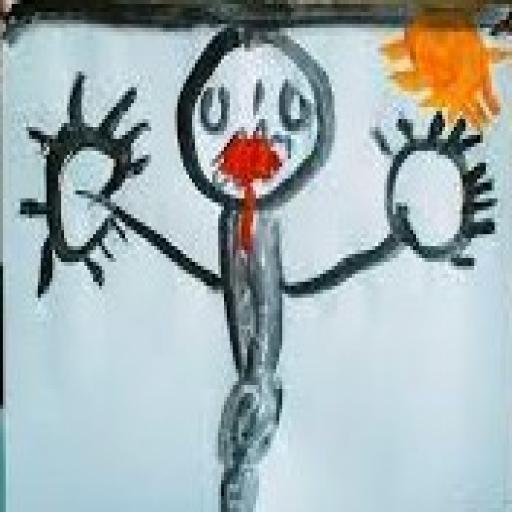person: (23, 23, 498, 508)
